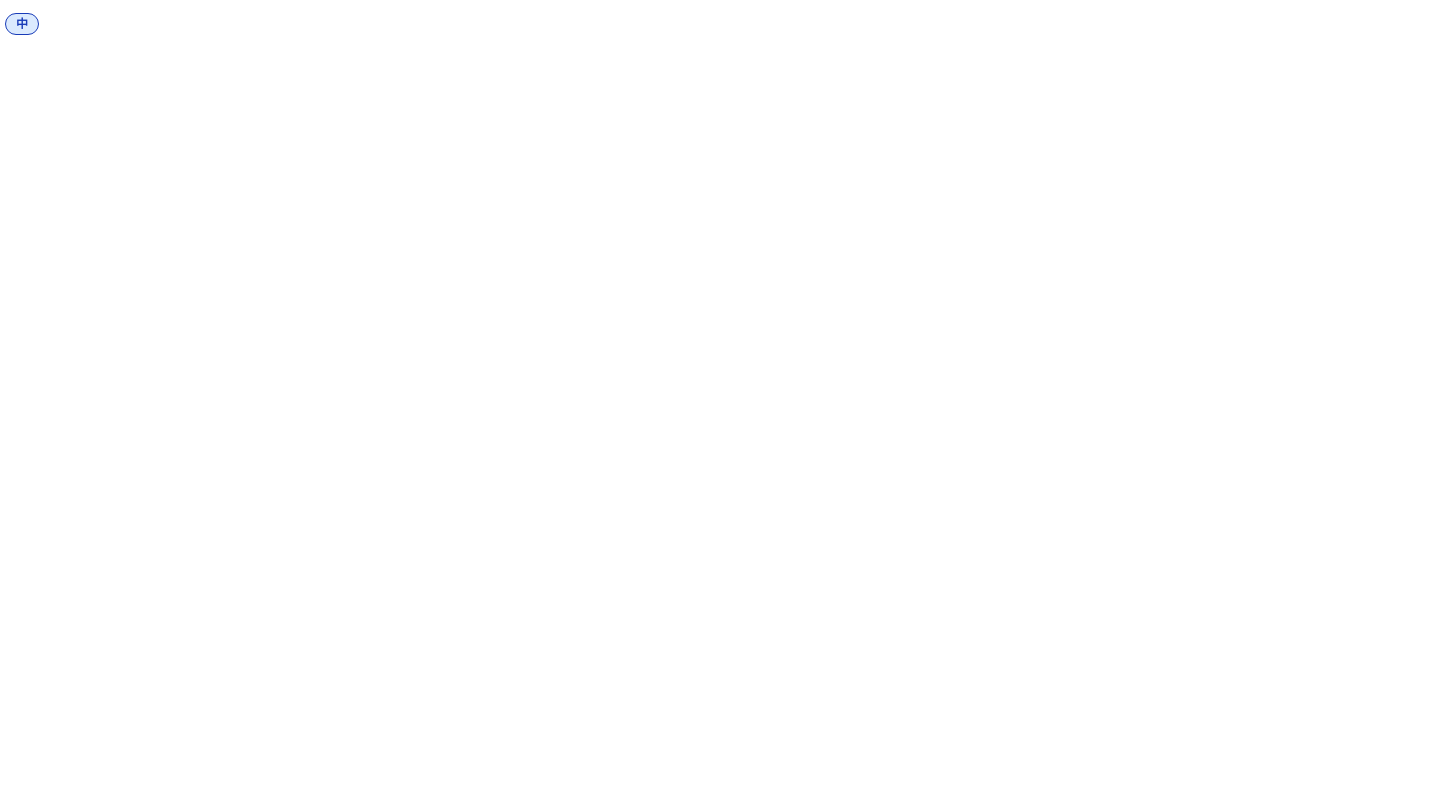
Test: PriorityInlineEdit › 点击优先级徽章显示下拉选择器
Click the button "中". click: (22,22)
box: [0, 0, 44, 44]
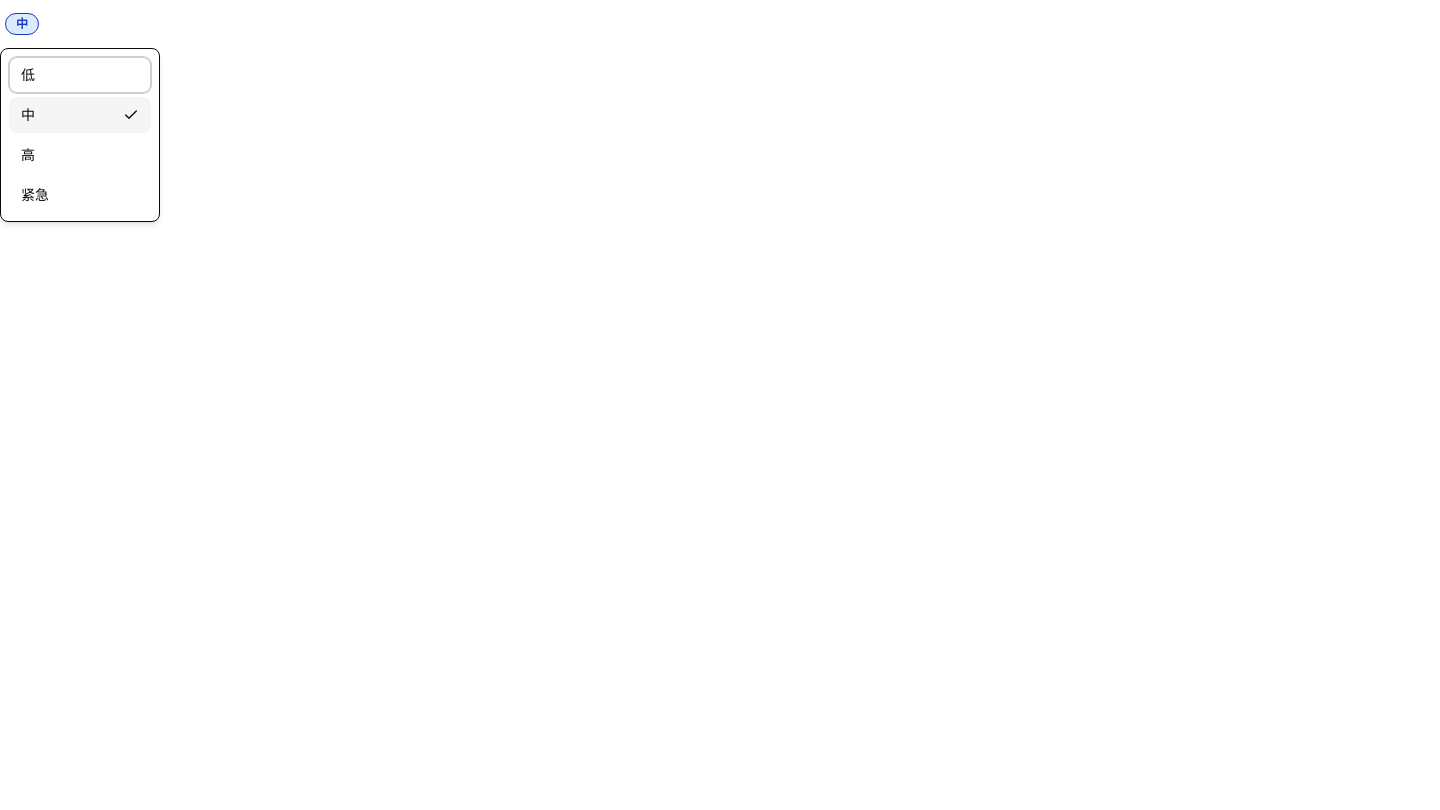
Expected: the option "低" is shown, [9, 57, 151, 93]
Expected: the option "高" is shown, [9, 137, 151, 173]
Expected: the option "紧急" is shown, [9, 177, 151, 213]
